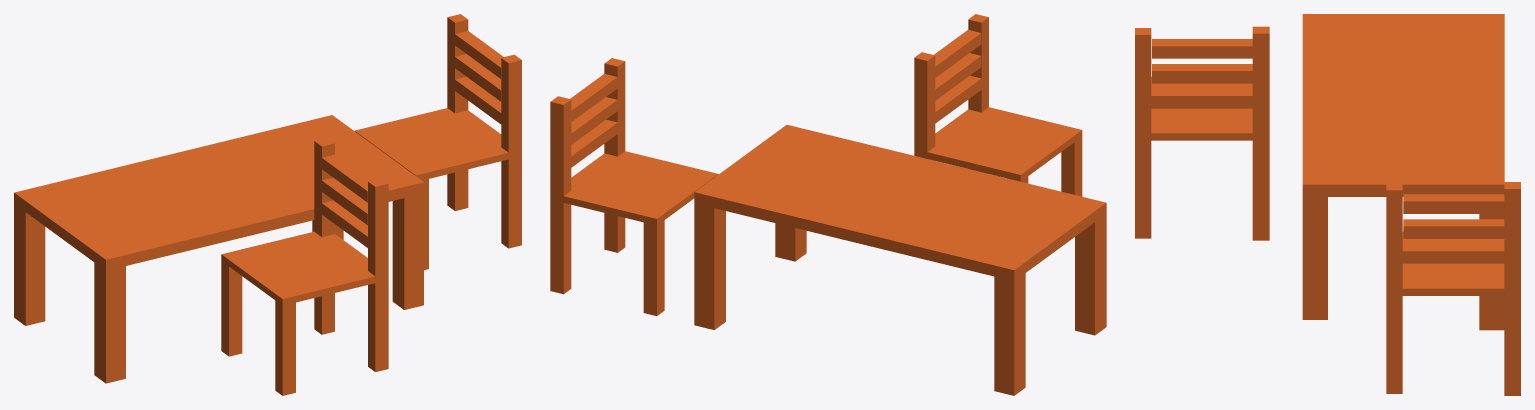
File: table&chaire.glb
The picture shows the model from 3 angles, left to right: view 1: azimuth 30°, elevation 25°; view 2: azimuth 150°, elevation 25°; view 3: azimuth 270°, elevation 25°; orthographic projection. The views are drawn at different scales.
Parts seen in each view (by area): view 1: Cube, Cube.002, Cube.001; view 2: Cube, Cube.001, Cube.002; view 3: Cube, Cube.002, Cube.001.
Boxes of the visible parts, box(x1,y1,x2,y2) form: Cube: box(14, 115, 423, 383); Cube.002: box(221, 137, 388, 395); Cube.001: box(355, 14, 521, 270); Cube: box(694, 125, 1106, 395); Cube.001: box(550, 58, 718, 315); Cube.002: box(914, 14, 1082, 196); Cube: box(1302, 14, 1504, 330); Cube.002: box(1135, 26, 1269, 240); Cube.001: box(1386, 182, 1520, 395).
Bounding box in the file's own units: 4.28 × 1.94 × 2.87.
